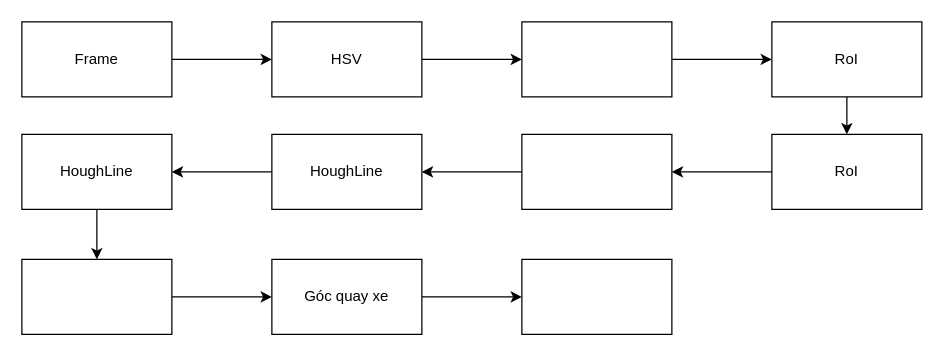
Image size: 944x356. Some labels were removed from this diagram. Here are the shapes that lost their labels. From the top down, the centre of each, then its label:
At (x=596, y=59): "Lọc màu".
At (x=596, y=171): "Canny".
At (x=96, y=296): "Độ dốc (Slope)".
At (x=596, y=296): "Vẽ đường thẳng điều hướng".
